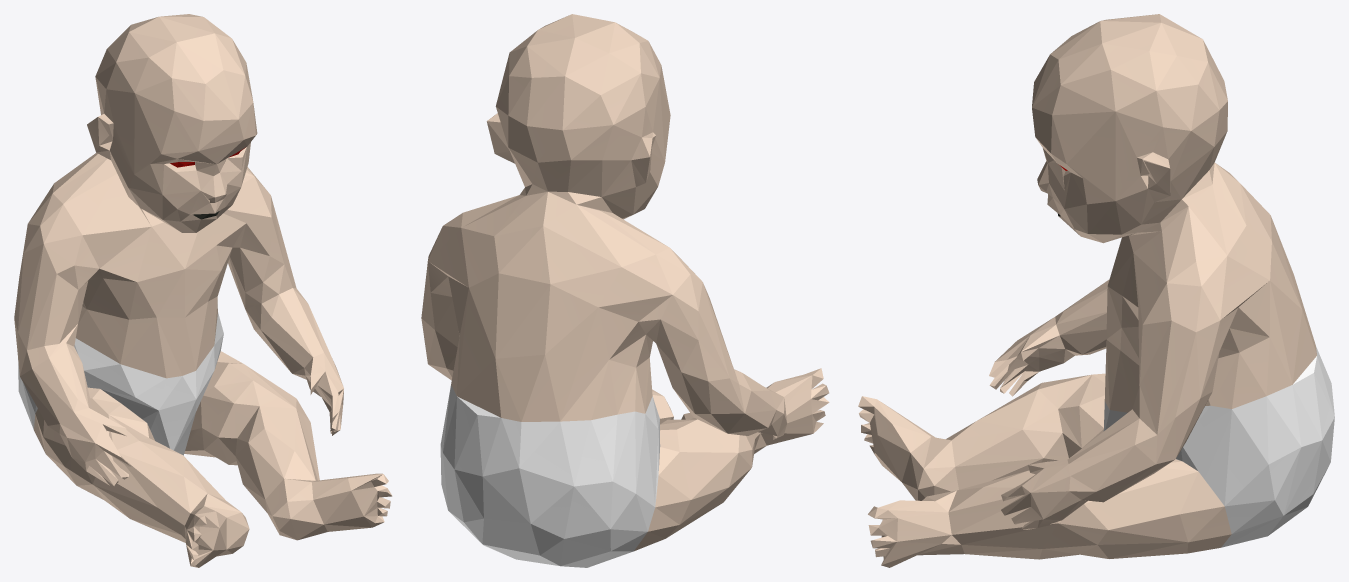
Rendered from evil_baby.fbx.
3 renders of one model, left to right at view 1: azimuth 30°, elevation 25°; view 2: azimuth 150°, elevation 25°; view 3: azimuth 270°, elevation 25°, orthographic. The views are drawn at different scales.
Parts seen in each view (by area): view 1: baby; view 2: baby; view 3: baby.
Boxes of the visible parts, bbox=[...] form: baby: bbox=[14, 14, 392, 567]; baby: bbox=[421, 14, 829, 567]; baby: bbox=[858, 14, 1334, 567].
Size of the model in its own units: 154 by 234 by 198.
